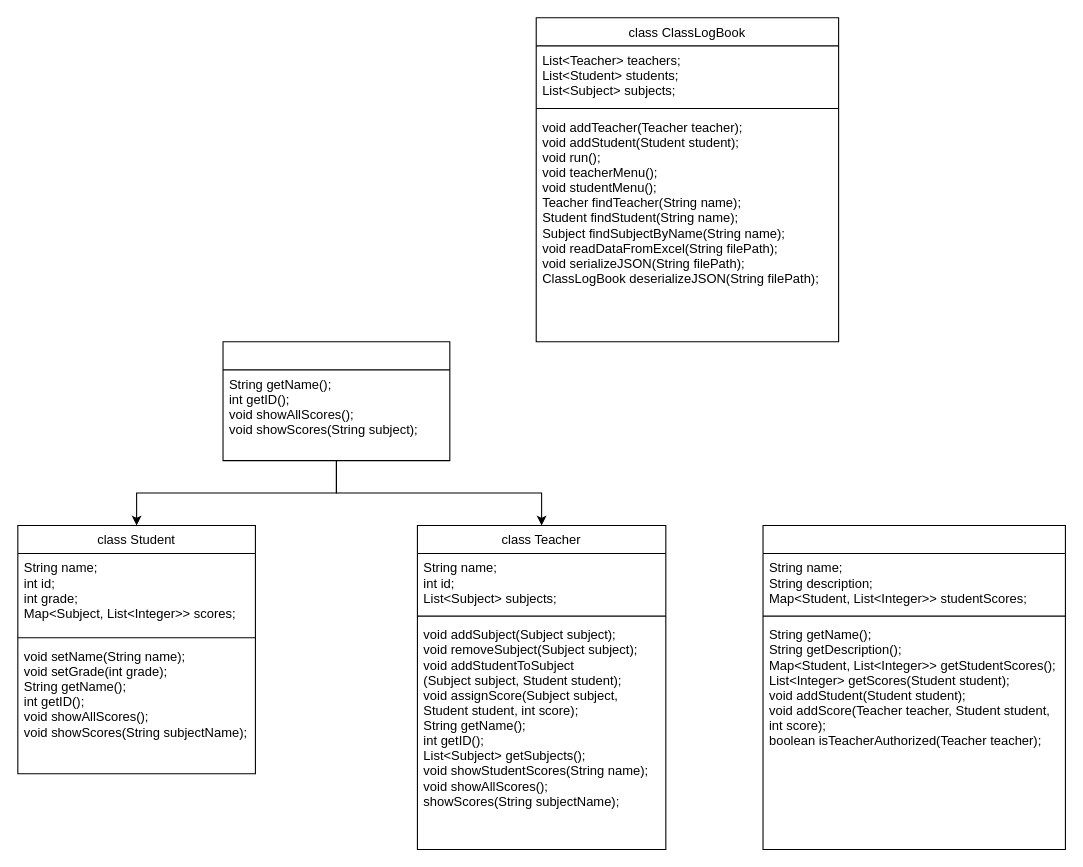
The diagram is 1083 pixels wide and 867 high, and some of its shapes have lost their labels. Each missing label, with the box of its shape:
class Subject: (762, 524, 1065, 849)
interface User: (222, 341, 450, 461)
